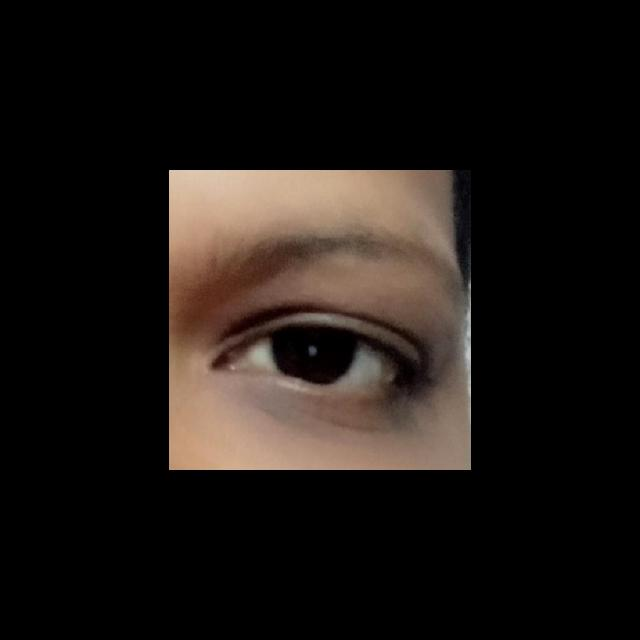eye: (235, 324, 402, 388)
iris: (272, 326, 360, 384)
